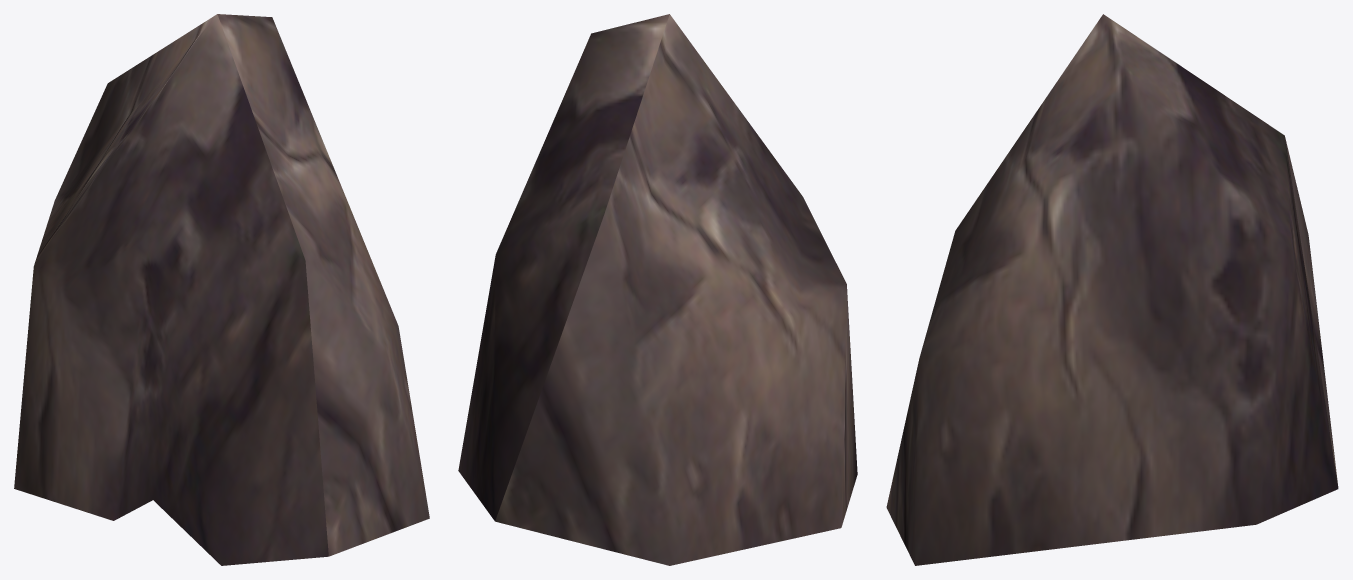
The model's file is shanti_02.FBX.
3 views of the same model, side by side, from view 1: azimuth 30°, elevation 25°; view 2: azimuth 150°, elevation 25°; view 3: azimuth 270°, elevation 25° (orthographic). The views are drawn at different scales.
Visible parts, largest first — view 1: shanti_02; view 2: shanti_02; view 3: shanti_02.
Part boxes in pixels (x1=…): shanti_02: x1=14, y1=14, x2=429, y2=565; shanti_02: x1=458, y1=14, x2=857, y2=565; shanti_02: x1=886, y1=14, x2=1338, y2=565.
Size of the model in its own units: 317 by 444 by 369.
